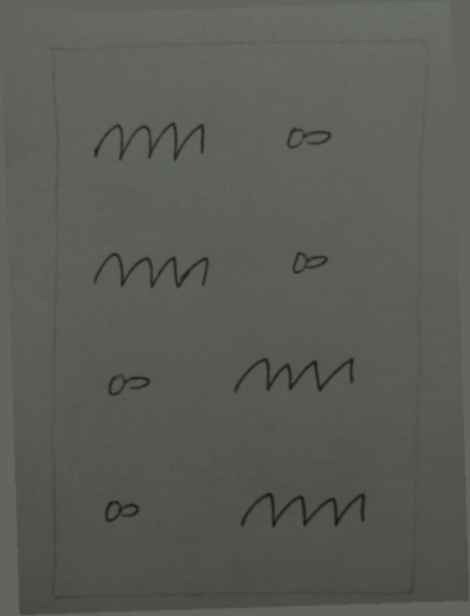switch: (92, 356, 163, 409), (274, 110, 344, 163), (281, 239, 346, 285), (93, 488, 151, 534)
text: (224, 472, 376, 547), (87, 236, 219, 302), (219, 345, 362, 403), (87, 112, 214, 171)
